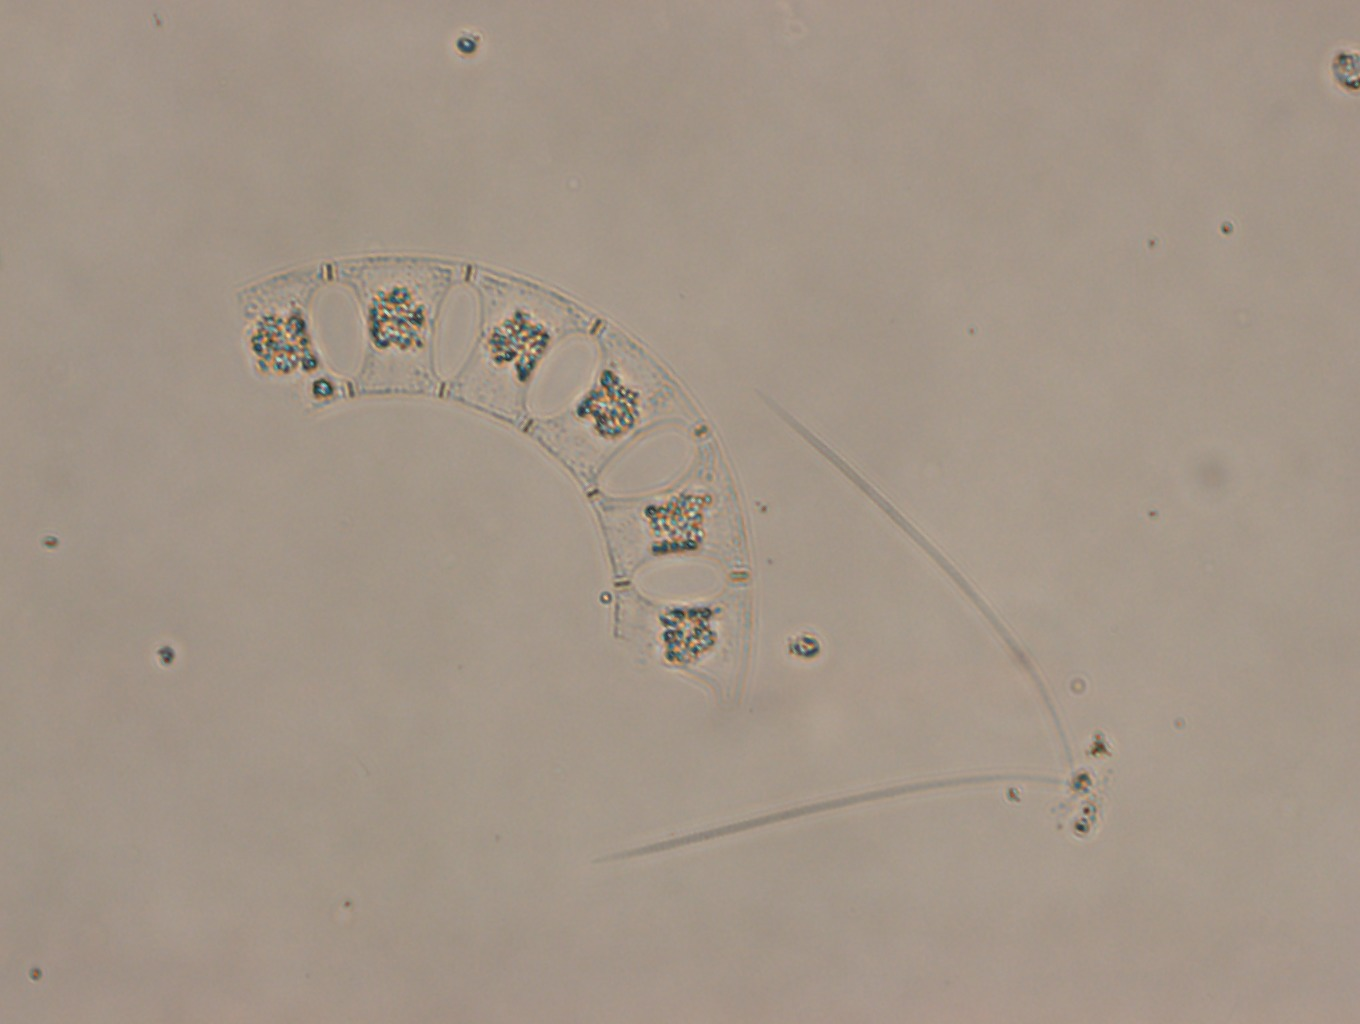eucampia: (233, 255, 755, 702)
